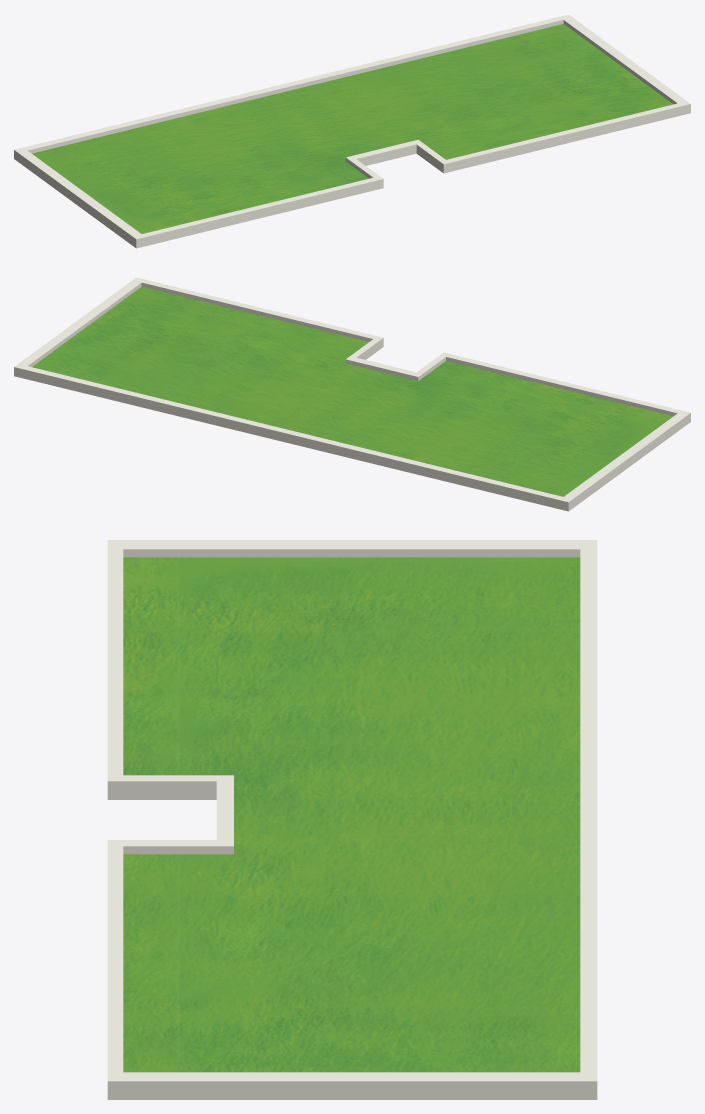
Rendered from fbx_school_outdoor_garden3.fbx.
3 views of the same model, one above another, from view 1: azimuth 30°, elevation 25°; view 2: azimuth 150°, elevation 25°; view 3: azimuth 270°, elevation 25° (orthographic). The views are drawn at different scales.
Visible parts, largest first — view 1: fbx_school_outdoor_garden3; view 2: fbx_school_outdoor_garden3; view 3: fbx_school_outdoor_garden3.
Part boxes in pixels (bbox=[...]): fbx_school_outdoor_garden3: bbox=[14, 14, 690, 248]; fbx_school_outdoor_garden3: bbox=[14, 277, 690, 511]; fbx_school_outdoor_garden3: bbox=[107, 540, 597, 1099].
Size of the model in its own units: 9.74 by 0.1547 by 3.72.
Materials: 2 (2 with a texture image).
